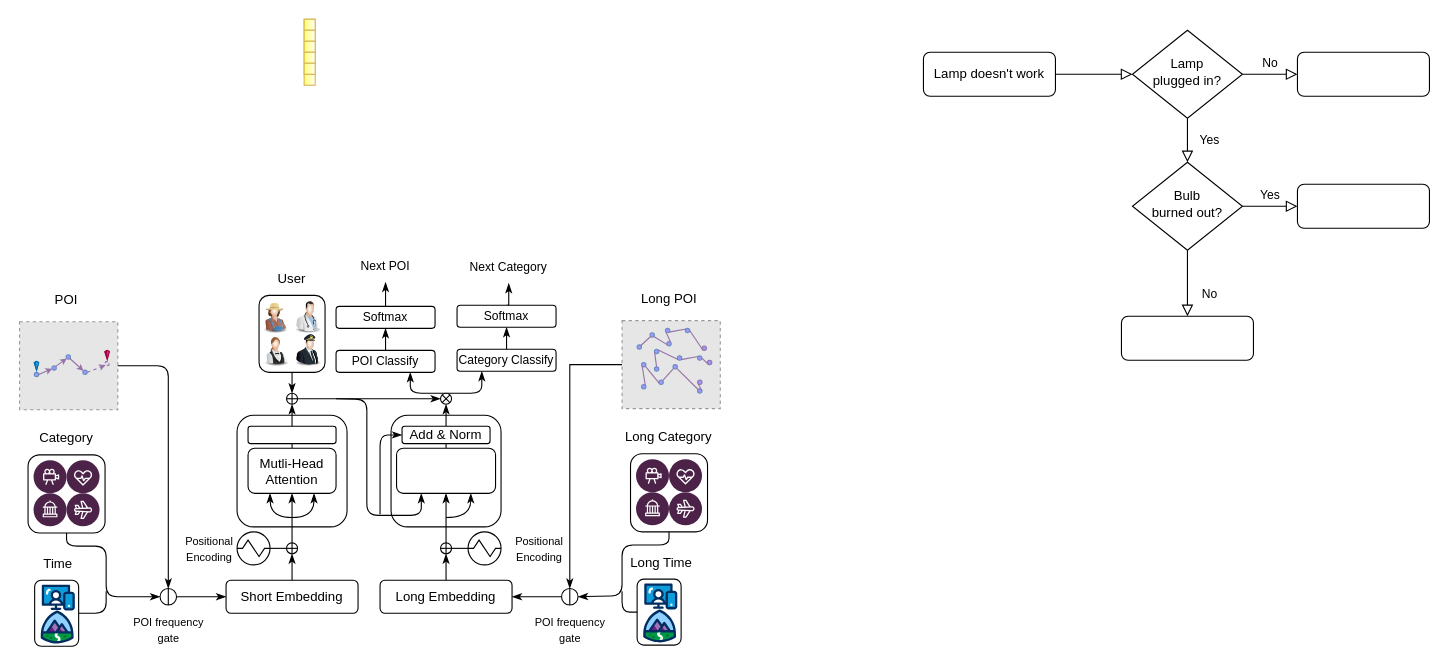
The diagram is 1449 pixels wide and 666 high, and some of its shapes have lost their labels. Grey dashed boxes stand in for pictures. Each missing label, with the centre of its shape:
Mean & Norm: the point at 291,434
Mutli-Head Cross Attention: the point at 445,470
Plug in lamp: the point at 1362,73
Repair Lamp: the point at 1186,337
Replace Bulb: the point at 1362,205
